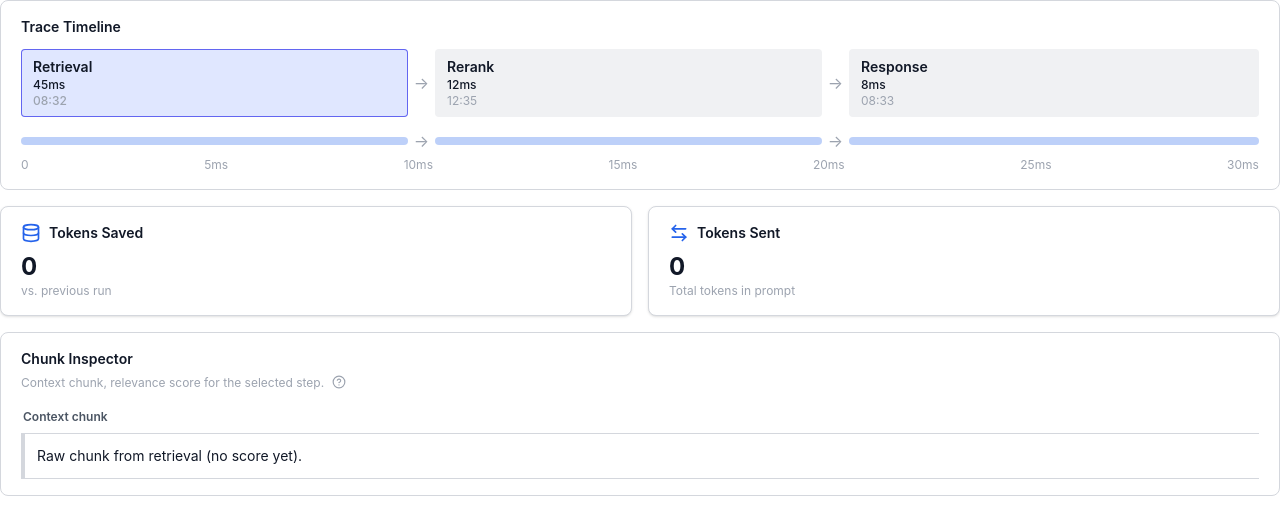
Scenario: TraceView › shows no nodes message when Response step is selected and trace has no responseNodes
Click the button "Response 8ms 08:33".
click(894, 66)  # box [849,49,1259,117]
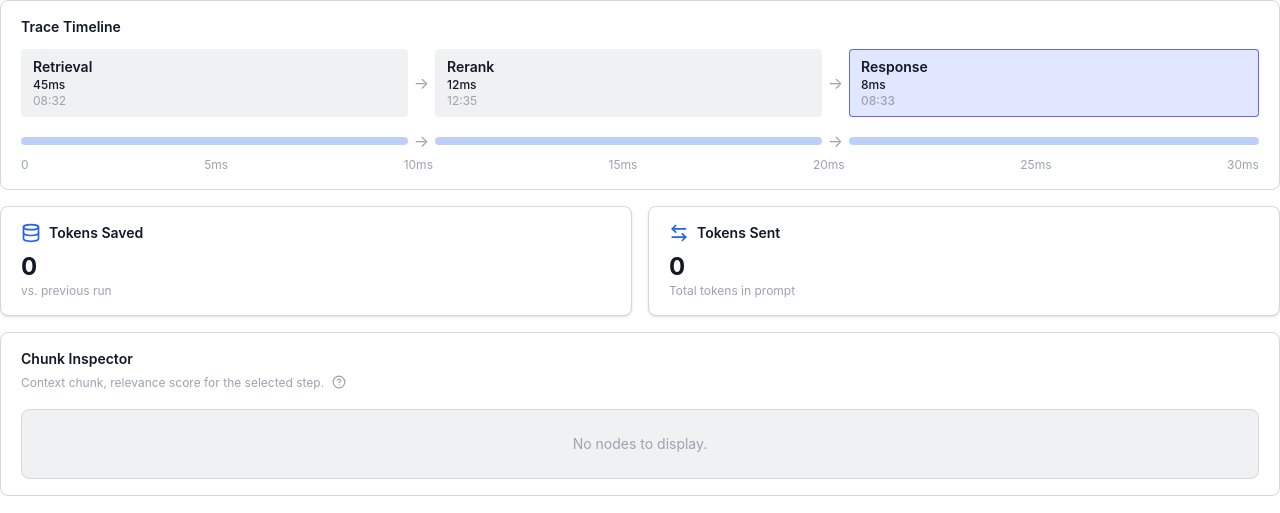
Expected: the text "No nodes to display." is shown, [21,409,1259,479]
